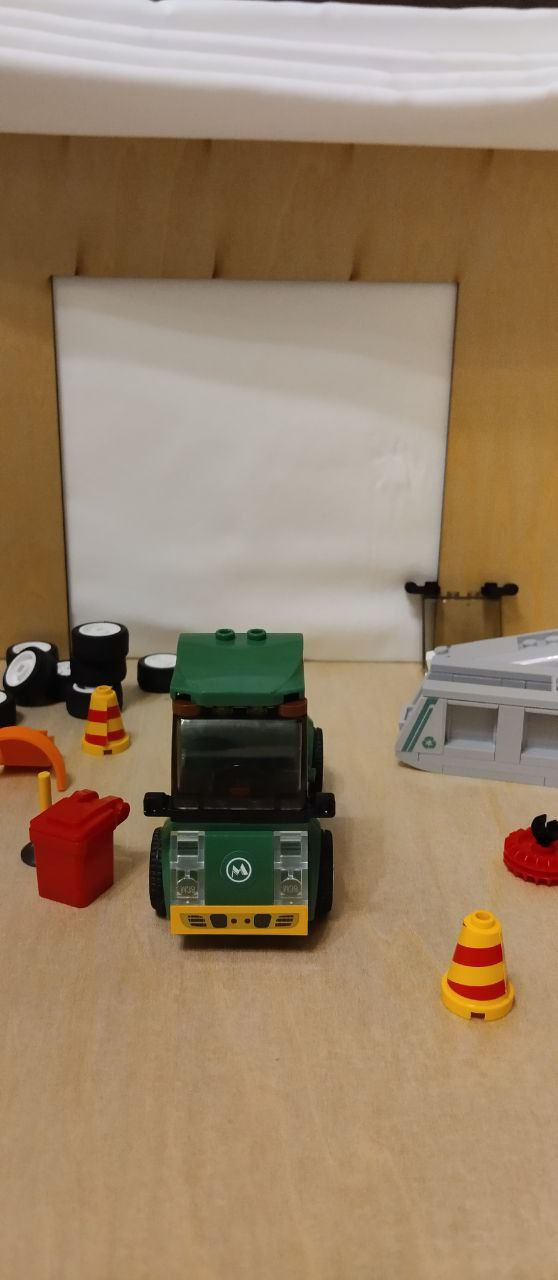Cone: (437, 904, 522, 1028), (76, 681, 137, 756)
Object Red: (30, 786, 130, 910)
Truck: (141, 623, 335, 946)
